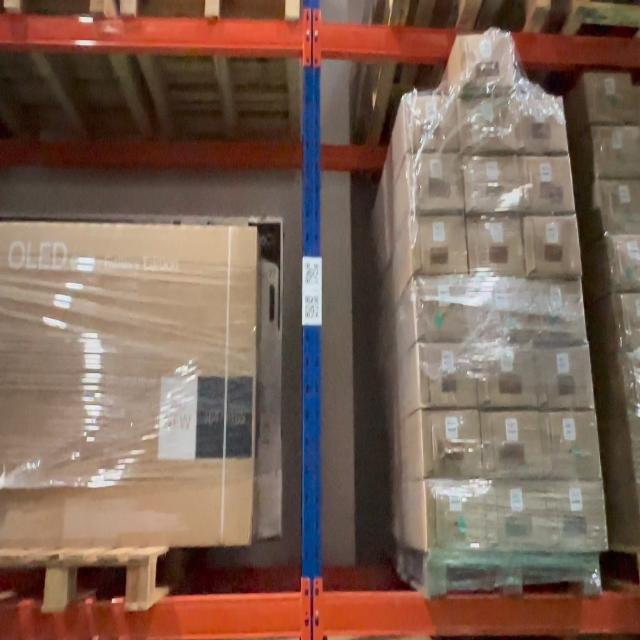box: (427, 480, 488, 550), (489, 482, 545, 550), (484, 412, 538, 476), (423, 412, 477, 476), (549, 482, 601, 548), (421, 343, 473, 408), (478, 346, 534, 405), (416, 278, 469, 338), (544, 414, 595, 476), (532, 280, 581, 342), (540, 347, 588, 407), (476, 281, 524, 340), (413, 217, 463, 272), (470, 218, 520, 272), (522, 156, 569, 213), (412, 153, 459, 210), (463, 97, 512, 151), (528, 217, 576, 272), (468, 156, 516, 210), (407, 94, 454, 148), (517, 97, 563, 152), (463, 35, 509, 86)
